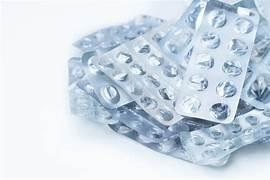pill_Strip: (70, 84, 197, 163), (176, 0, 258, 122), (70, 83, 191, 161), (74, 86, 191, 161), (69, 15, 163, 108), (109, 103, 229, 165), (69, 57, 163, 135), (93, 45, 181, 124), (70, 74, 170, 140), (69, 83, 168, 142), (109, 122, 229, 166), (124, 118, 229, 165), (180, 109, 269, 162), (124, 37, 181, 118), (126, 37, 182, 119), (74, 15, 164, 66), (143, 0, 206, 69), (74, 15, 164, 63), (144, 0, 207, 68), (144, 0, 207, 67), (145, 0, 206, 66), (125, 37, 180, 109), (125, 22, 184, 88), (74, 15, 170, 55), (74, 15, 165, 57), (115, 102, 212, 141), (74, 15, 164, 55), (115, 102, 215, 137), (73, 15, 163, 53), (74, 15, 164, 53), (69, 57, 131, 108), (109, 122, 190, 161), (126, 37, 182, 92), (126, 37, 183, 90), (141, 23, 185, 88), (143, 23, 185, 88), (241, 16, 269, 108), (241, 18, 269, 108), (113, 102, 176, 142), (69, 83, 117, 123), (69, 57, 110, 101), (94, 50, 137, 90), (68, 57, 98, 111), (73, 24, 129, 52), (241, 55, 269, 109), (76, 101, 125, 125), (69, 83, 99, 119), (175, 0, 208, 30), (125, 15, 165, 39), (250, 17, 269, 67), (161, 117, 215, 133), (143, 20, 174, 46), (251, 17, 269, 60), (233, 0, 263, 17), (179, 117, 215, 130), (129, 71, 160, 86), (68, 57, 84, 84), (236, 99, 255, 115), (257, 136, 269, 143), (201, 162, 206, 164)
